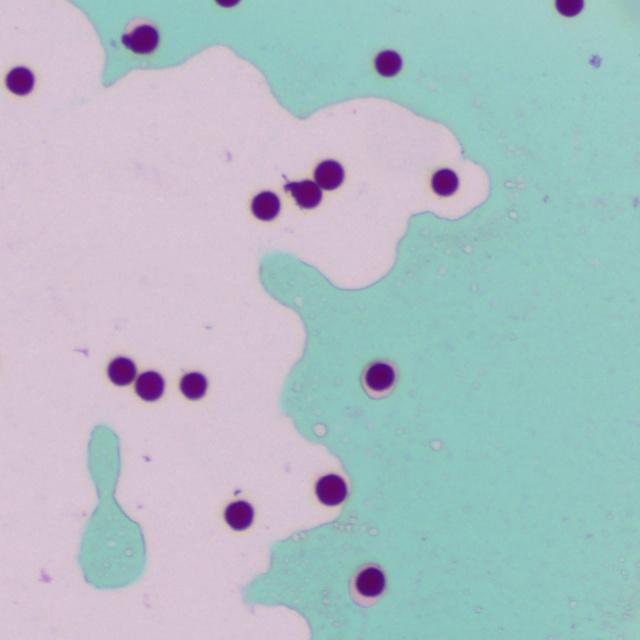viable: (122, 24, 158, 53), (287, 179, 321, 208), (316, 474, 346, 505), (314, 160, 343, 189), (5, 66, 34, 95), (135, 371, 164, 400), (356, 566, 384, 596), (225, 500, 253, 529), (108, 356, 136, 385), (365, 362, 394, 390), (252, 191, 279, 220), (431, 168, 458, 196), (180, 372, 207, 399), (375, 50, 401, 75), (555, 0, 583, 16), (215, 0, 239, 7)
